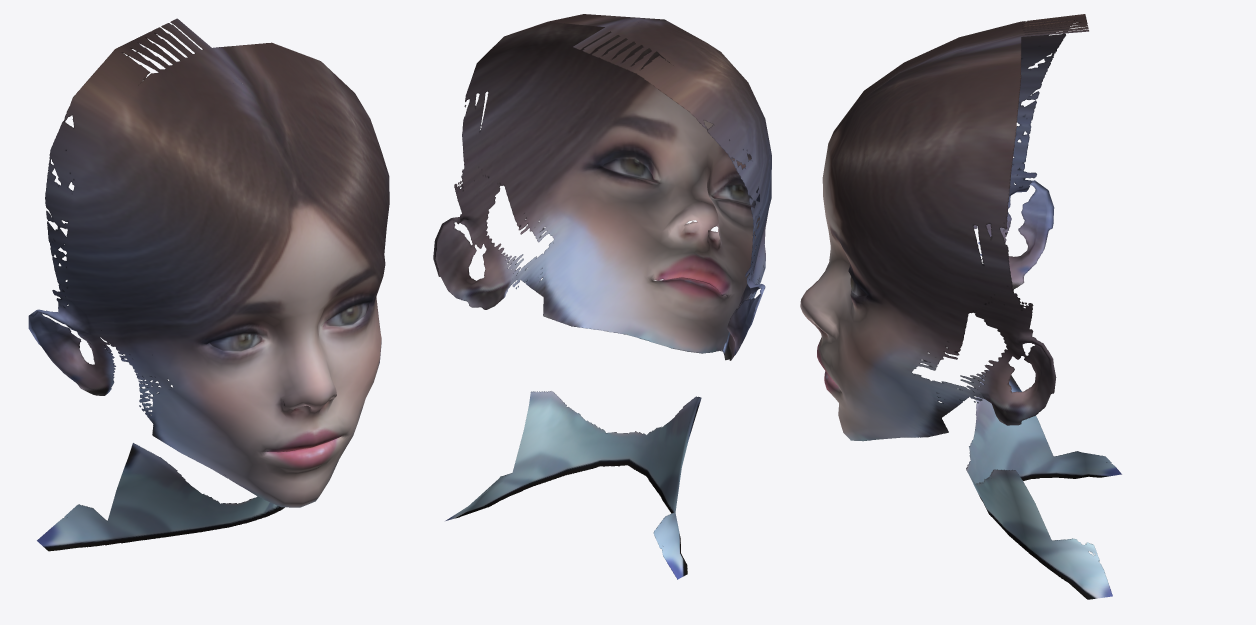
The model's file is body14.fbx.
The picture shows the model from 3 angles, left to right: view 1: azimuth 30°, elevation 25°; view 2: azimuth 150°, elevation 25°; view 3: azimuth 270°, elevation 25°; orthographic projection. The views are drawn at different scales.
Visible parts, largest first — view 1: FBHead.001; view 2: FBHead.001; view 3: FBHead.001.
Boxes of the visible parts, box(x1,y1,x2,y2) form: FBHead.001: box(28, 18, 389, 551); FBHead.001: box(433, 14, 771, 579); FBHead.001: box(800, 14, 1121, 599).
Size of the model in its own units: 157 by 251 by 182.
